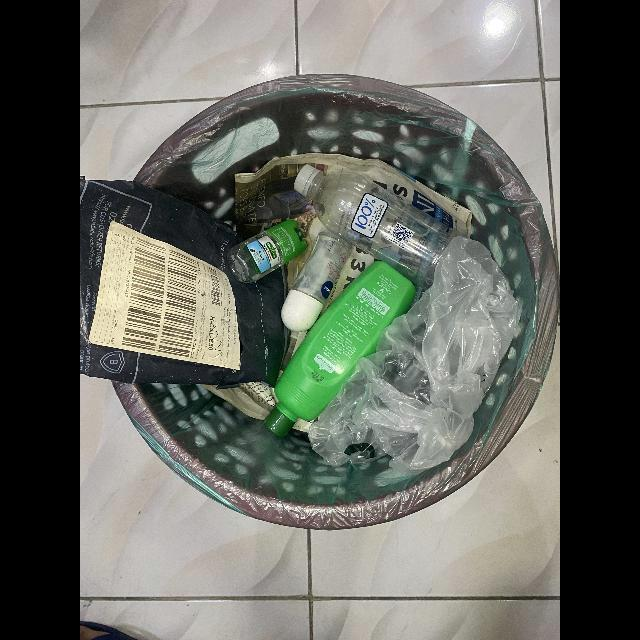glass_bottle: (281, 231, 351, 332)
paper: (234, 153, 473, 289)
plastic_bag: (308, 237, 522, 473), (80, 176, 286, 388)
plastic_bottle: (264, 261, 416, 438), (294, 165, 450, 292)
